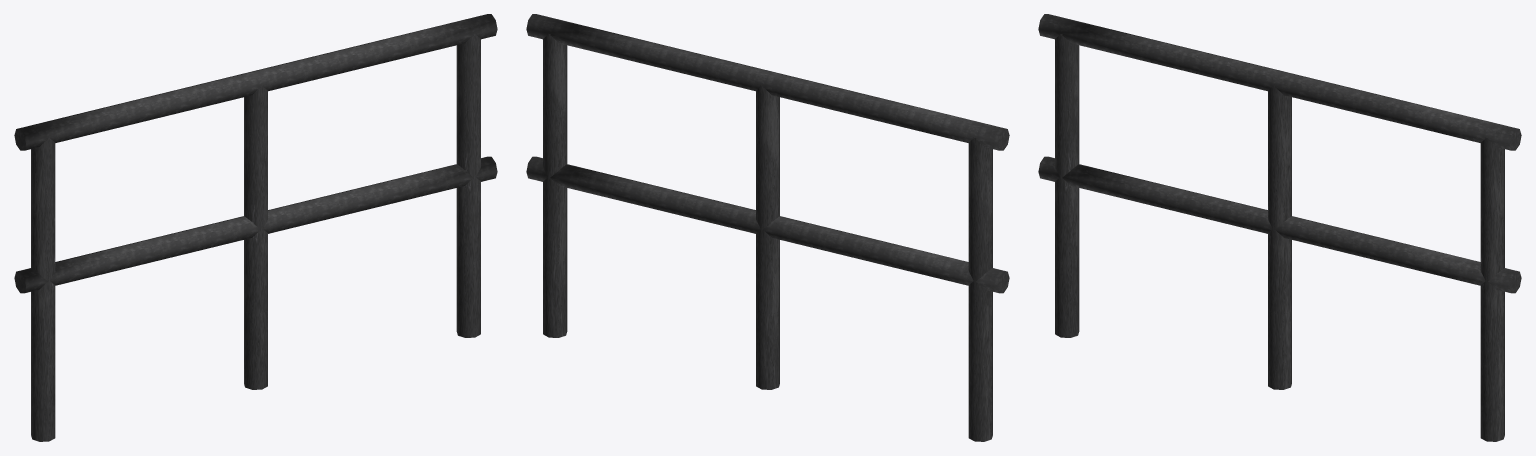
Rendered from Walkway Railing Piece End.fbx.
3 views of the same model, side by side, from view 1: azimuth 30°, elevation 25°; view 2: azimuth 150°, elevation 25°; view 3: azimuth 330°, elevation 25° (orthographic).
Parts seen in each view (by area): view 1: Cylinder.008; view 2: Cylinder.008; view 3: Cylinder.008.
Part boxes in pixels (x1,y1,x2,y2): Cylinder.008: (14,14,497,441); Cylinder.008: (526,14,1009,441); Cylinder.008: (1038,14,1521,441).
Size of the model in its own units: 200 by 127 by 9.2.
1 material, 1 textured.
